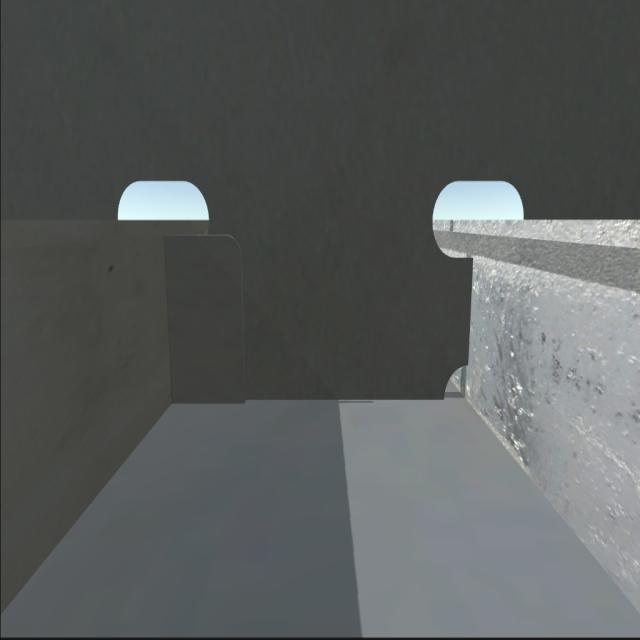fillet_hole: (438, 358, 472, 403)
fillet_yong_jeop_jang: (165, 388, 450, 414)
longi_yong_jeop_jang: (160, 238, 177, 405), (466, 251, 480, 373)
plate_CP05: (166, 235, 247, 404)
